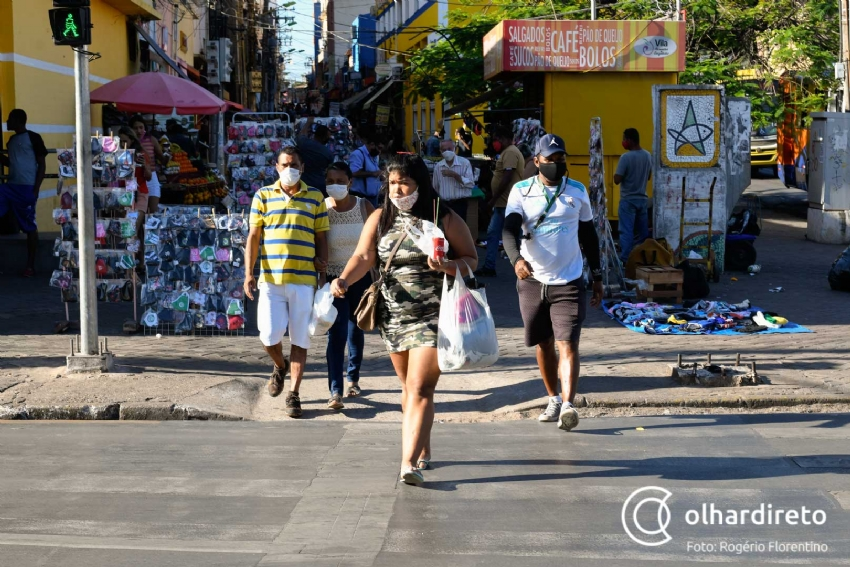mask_weared_incorrect: (385, 160, 422, 213)
